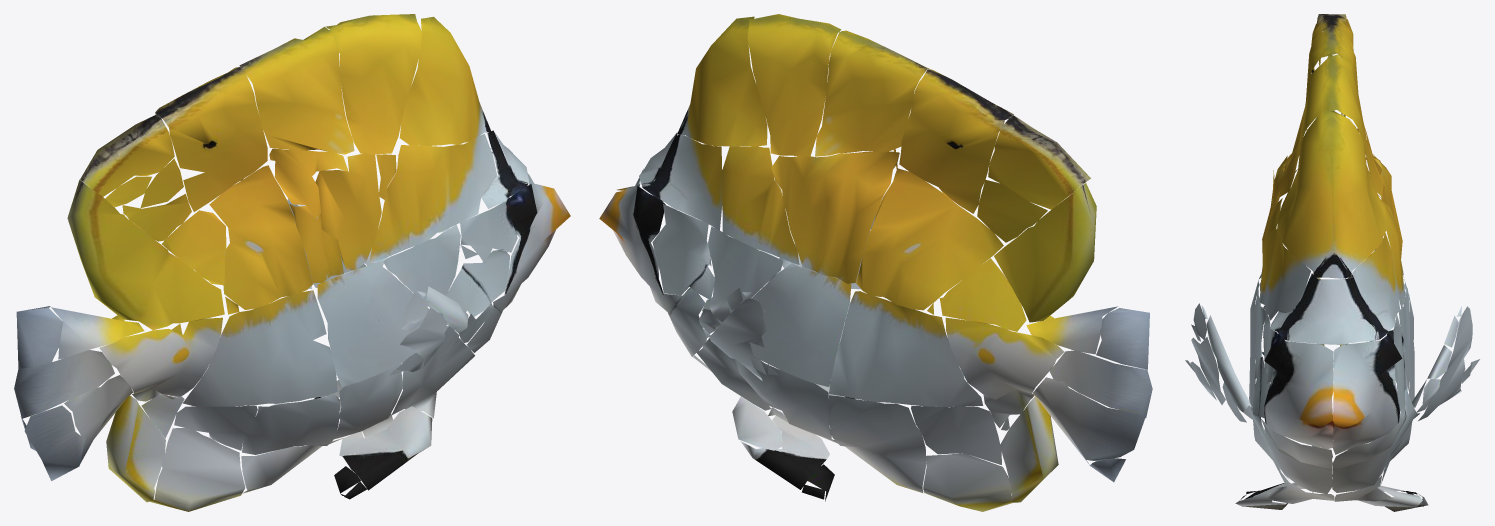
The model's file is fish_butterfly.glb.
The picture shows the model from 3 angles, left to right: view 1: azimuth 30°, elevation 25°; view 2: azimuth 150°, elevation 25°; view 3: azimuth 270°, elevation 25°; orthographic projection. The views are drawn at different scales.
Visible parts, largest first — view 1: tripo_node_52b11929-be42-4604-949a-01620ca5c889; view 2: tripo_node_52b11929-be42-4604-949a-01620ca5c889; view 3: tripo_node_52b11929-be42-4604-949a-01620ca5c889.
Part boxes in pixels (x1,y1,x2,y2): tripo_node_52b11929-be42-4604-949a-01620ca5c889: (14,14,570,511); tripo_node_52b11929-be42-4604-949a-01620ca5c889: (599,14,1152,511); tripo_node_52b11929-be42-4604-949a-01620ca5c889: (1185,14,1479,511).
Bounding box in the file's own units: 1 × 0.7843 × 0.4498.
Materials: 1 (1 with a texture image).
